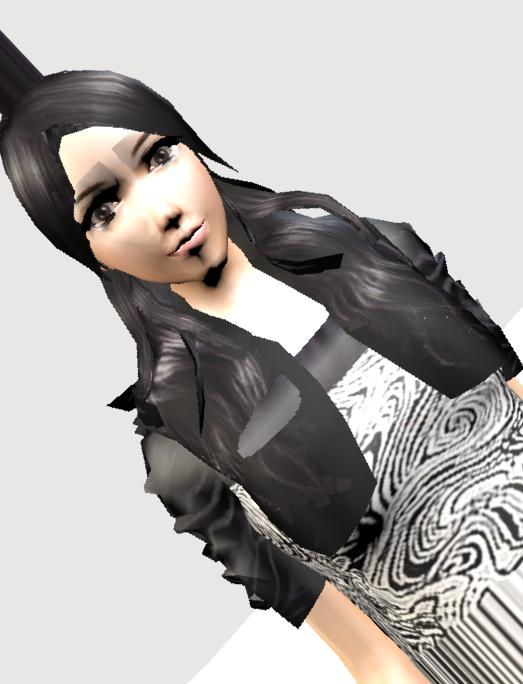clip: (230, 396, 305, 429)
